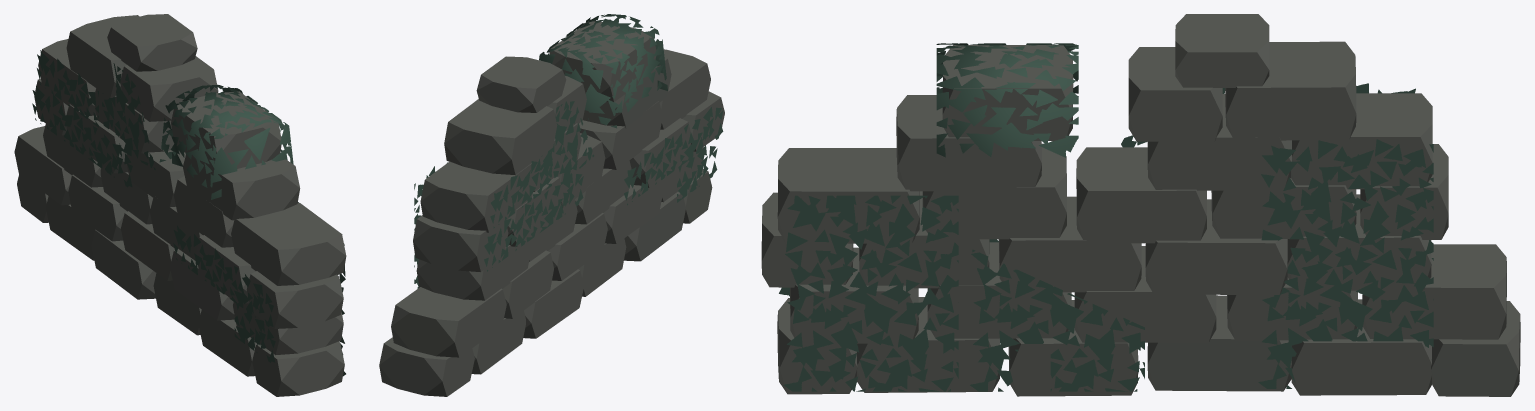
Rendered from Stonefence2.fbx.
3 renders of one model, left to right at view 1: azimuth 30°, elevation 25°; view 2: azimuth 150°, elevation 25°; view 3: azimuth 270°, elevation 25°, orthographic. The views are drawn at different scales.
Visible parts, largest first — view 1: Stonefence 2; view 2: Stonefence 2; view 3: Stonefence 2.
Boxes of the visible parts, x1=… form: Stonefence 2: x1=14, y1=14, x2=346, y2=396; Stonefence 2: x1=379, y1=14, x2=724, y2=396; Stonefence 2: x1=761, y1=14, x2=1520, y2=396.
Size of the model in its own units: 0.8701 by 2.43 by 4.96.
